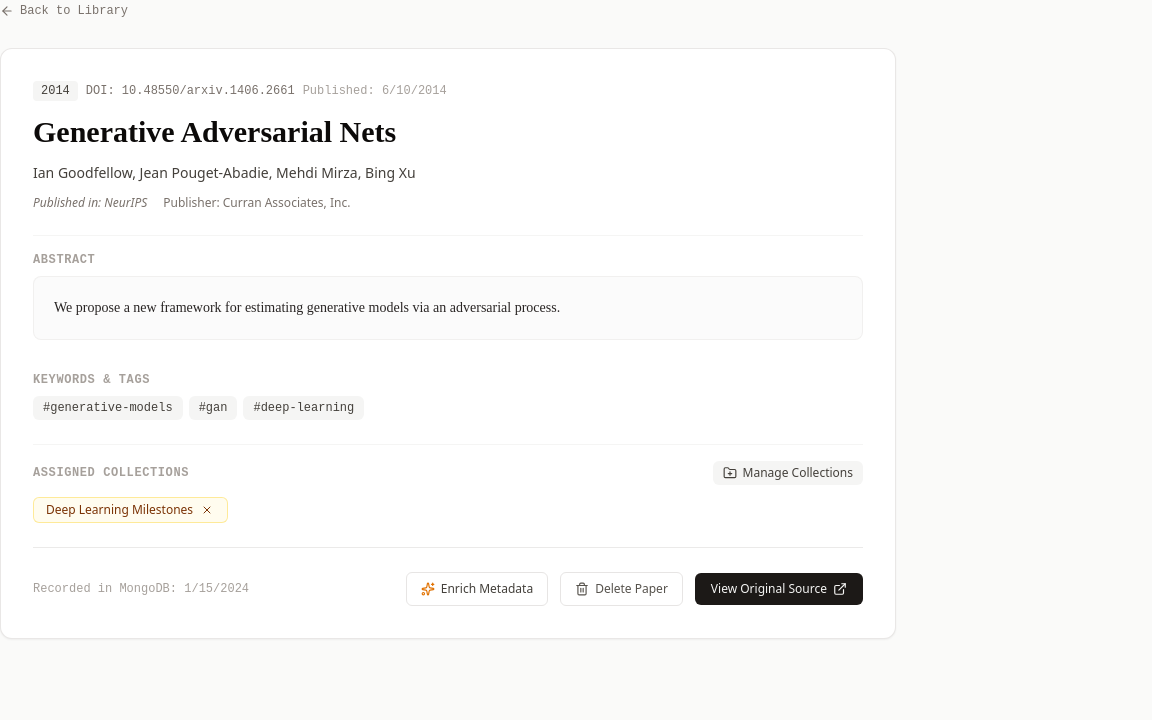
Scenario: PaperDetailPage (Publication Dossier) › displays error in delete modal when paper deletion fails
The image size is (1152, 720).
Expected: the heading "Generative Adversarial Nets" is shown, [33, 115, 396, 148]
Step 1. Click the button "Delete Paper" → (621, 589), box [560, 572, 683, 606]
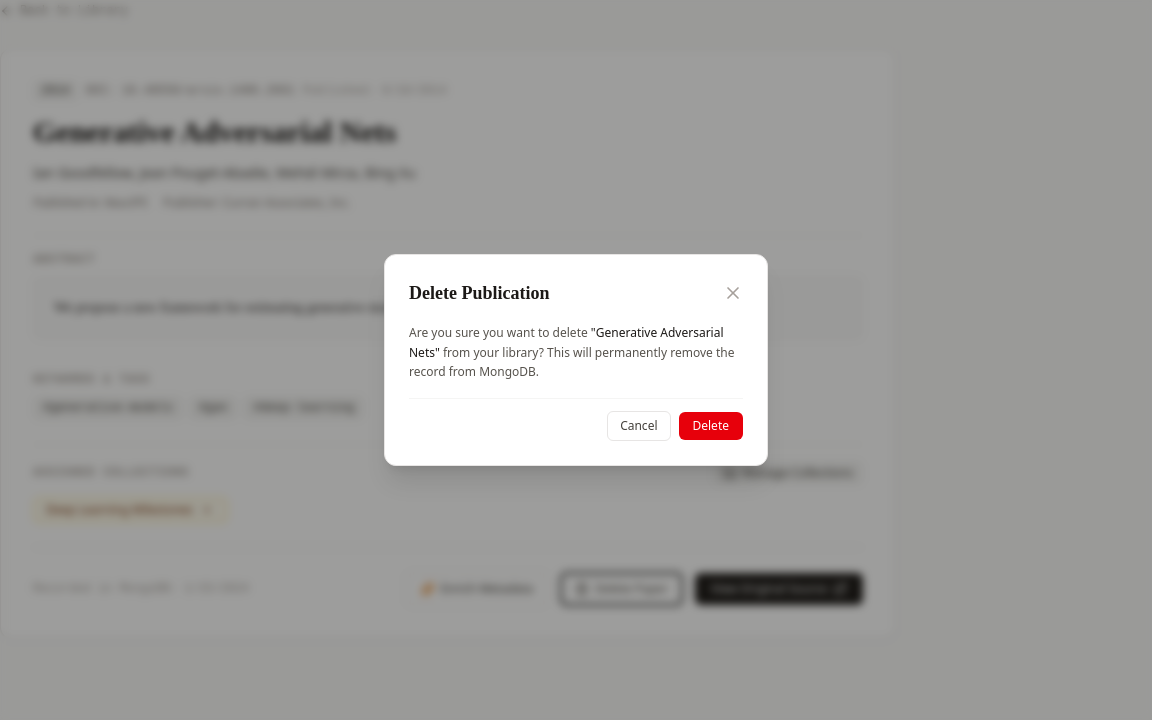
Step 2. Click the button "Delete" → (711, 426), box [678, 412, 743, 440]
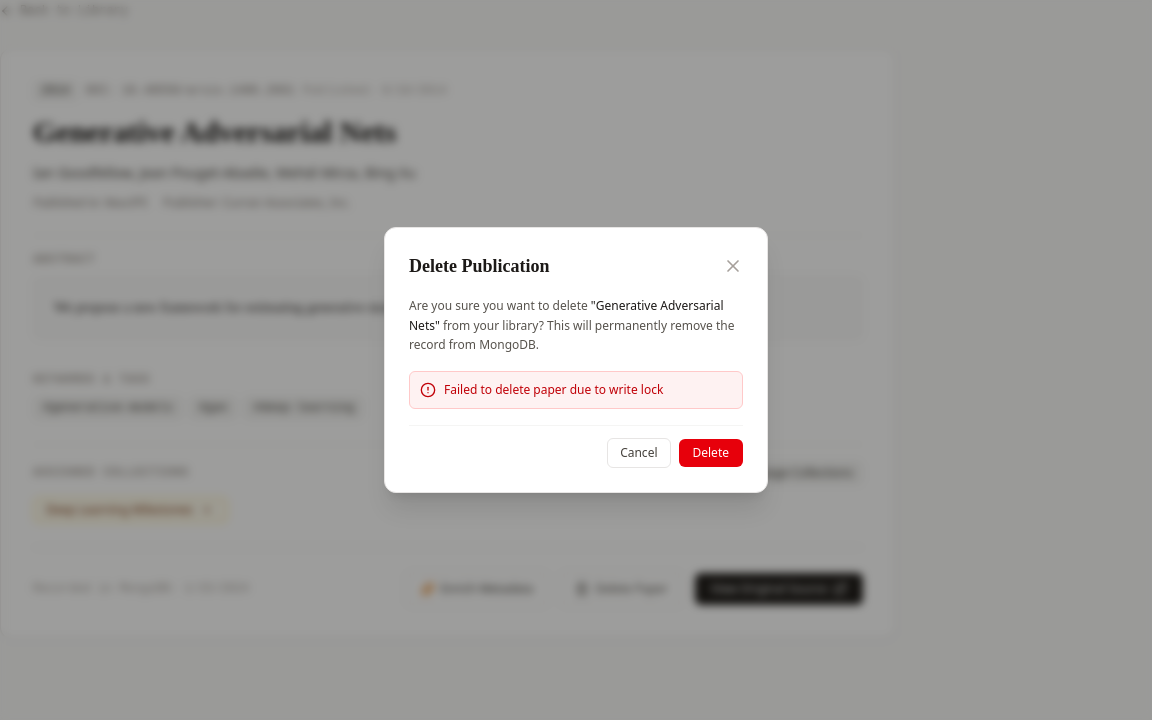
Now the text "Failed to delete paper due to write lock" is shown, box [444, 382, 663, 398]
